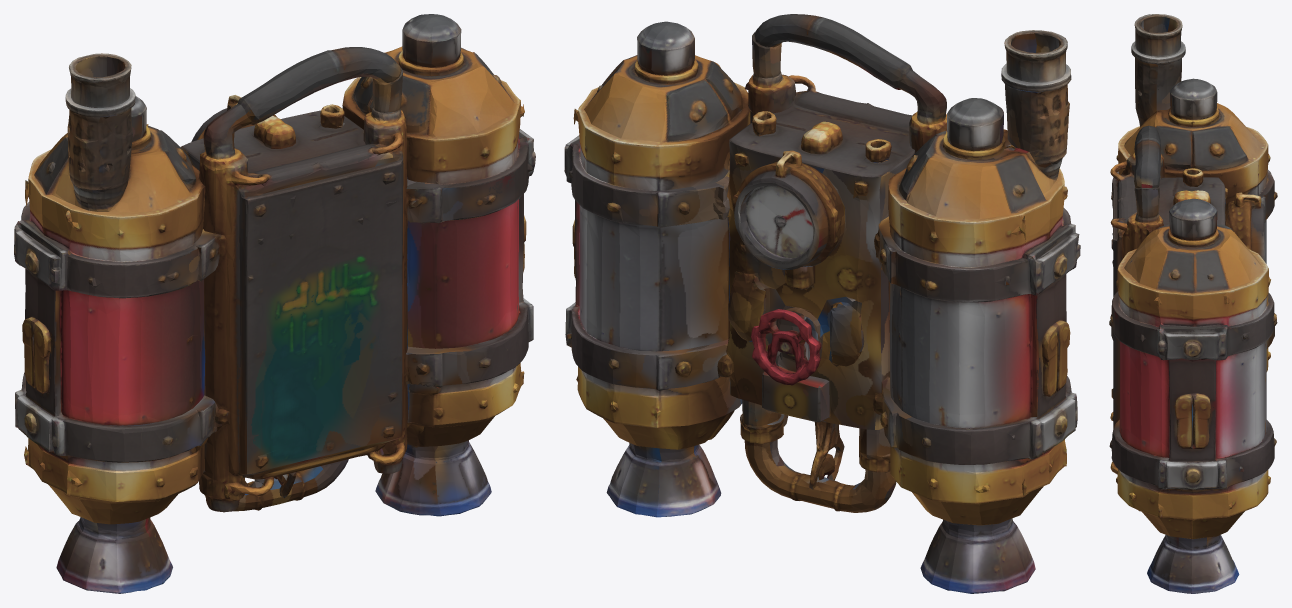
File: jet_1.glb
3 views of the same model, side by side, from view 1: azimuth 30°, elevation 25°; view 2: azimuth 150°, elevation 25°; view 3: azimuth 270°, elevation 25° (orthographic). The views are drawn at different scales.
Parts seen in each view (by area): view 1: geometry_0; view 2: geometry_0; view 3: geometry_0.
Boxes of the visible parts, <box> form: geometry_0: <box>14,14,535,593</box>; geometry_0: <box>564,14,1080,593</box>; geometry_0: <box>1109,14,1277,593</box>.
Bounding box in the file's own units: 0.9809 × 1 × 0.3689.
Materials: 1 (1 with a texture image).
